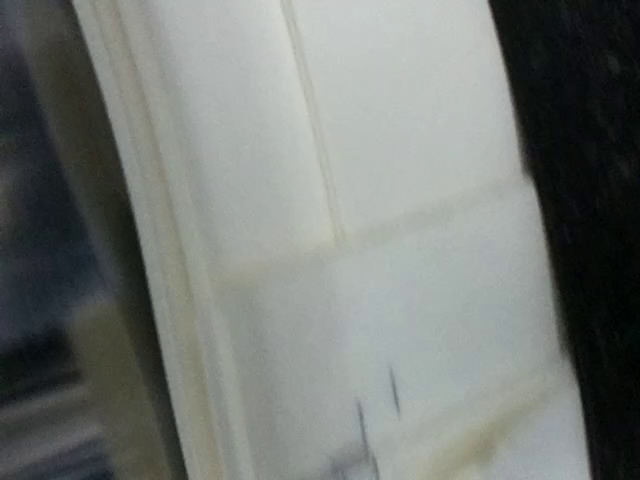not_sure: (282, 398, 389, 480)
